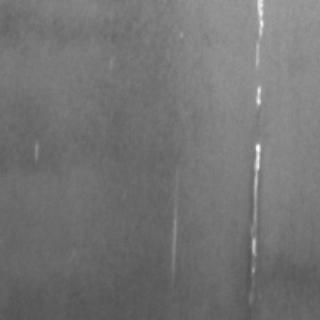scratches: (243, 138, 265, 280)
